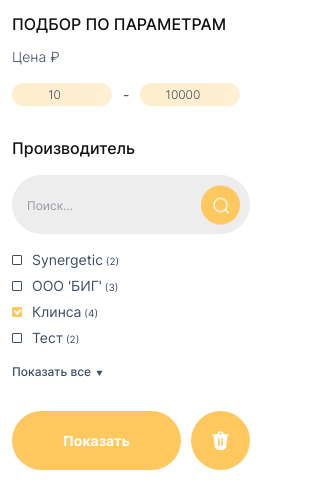
Parameters.test › Test search
The width and height of the screenshot is (332, 487).
Type "Con" into the search field.
click(131, 204); type("Con")  # box [12, 175, 250, 234]
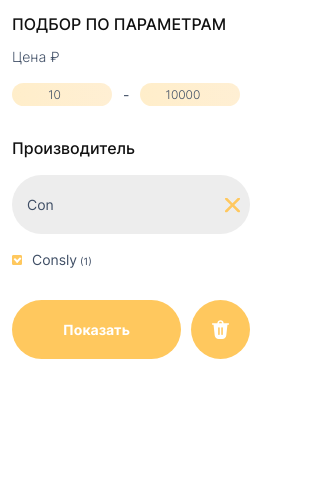
Now the element with test id "checkboxList" shows "Consly", box [32, 251, 77, 268]
